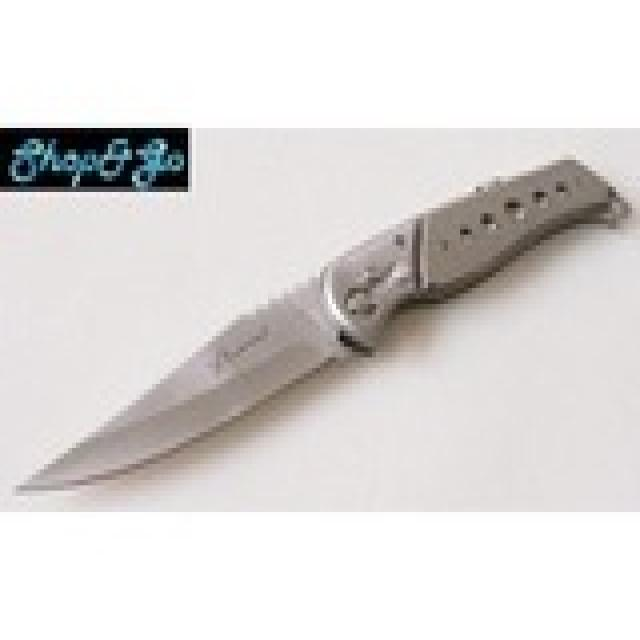Knife: (9, 146, 621, 504)
